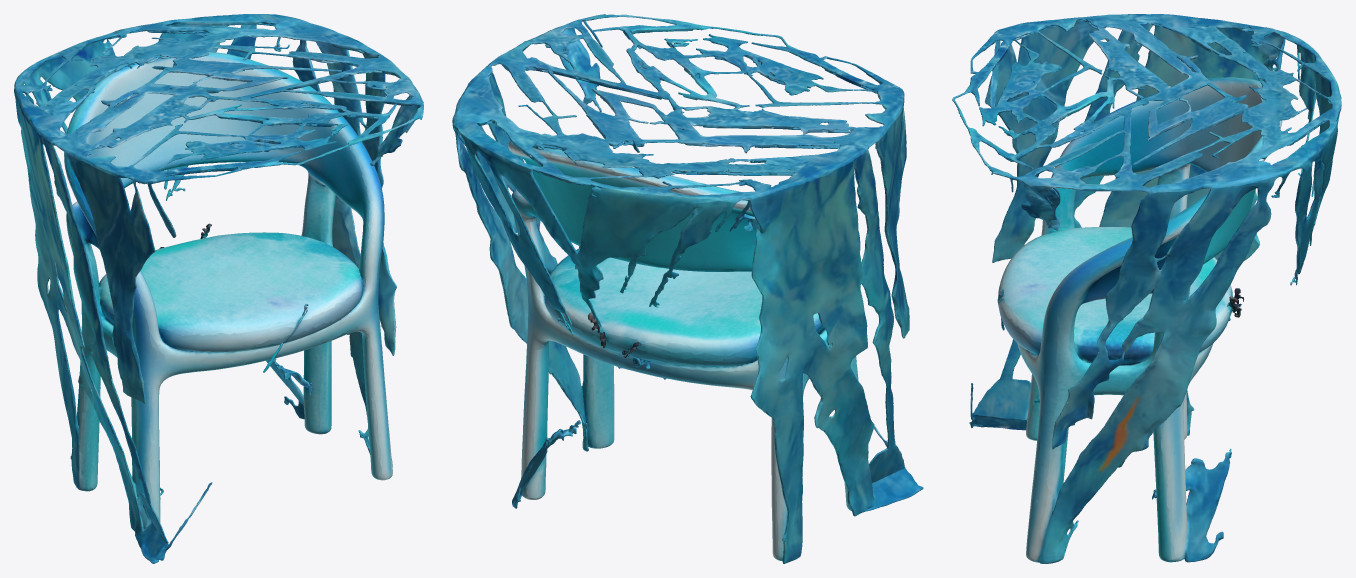
File: celadon-cat.glb
3 renders of one model, left to right at view 1: azimuth 30°, elevation 25°; view 2: azimuth 150°, elevation 25°; view 3: azimuth 270°, elevation 25°, orthographic. The views are drawn at different scales.
Parts seen in each view (by area): view 1: world; view 2: world; view 3: world.
Part boxes in pixels (<box>): world: <box>14,14,423,563</box>; world: <box>452,14,923,563</box>; world: <box>952,14,1341,563</box>.
Bounding box in the file's own units: 0.7601 × 0.8 × 0.7098.
Materials: 1 (1 with a texture image).
